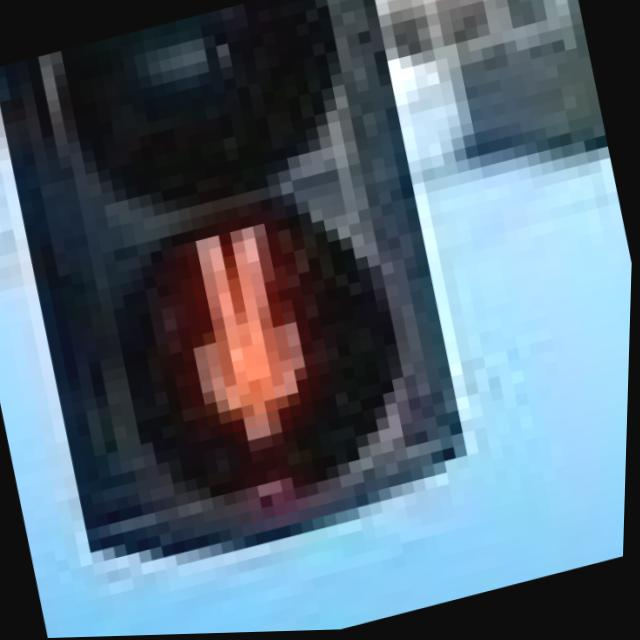red_light: (141, 194, 395, 525)
